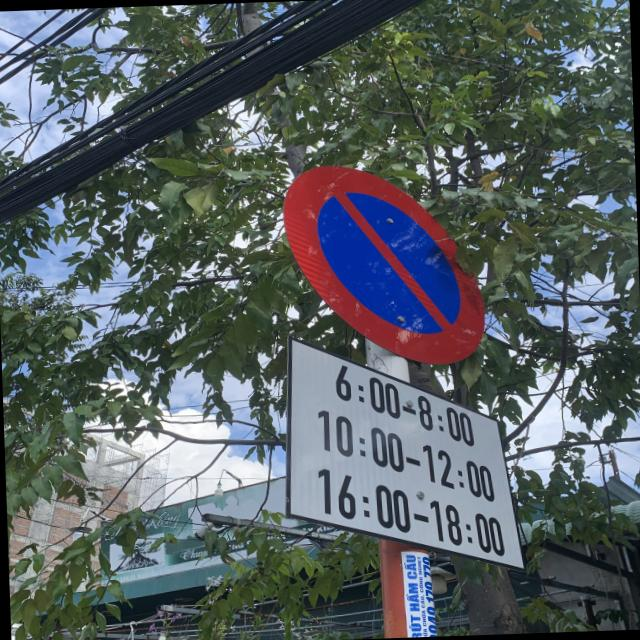Cam_Dau_Xe: (280, 159, 490, 372)
